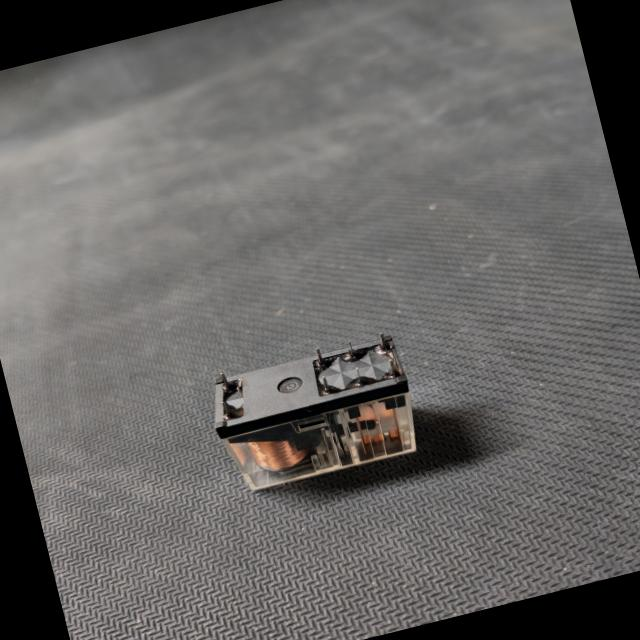relay: (190, 322, 438, 514)
